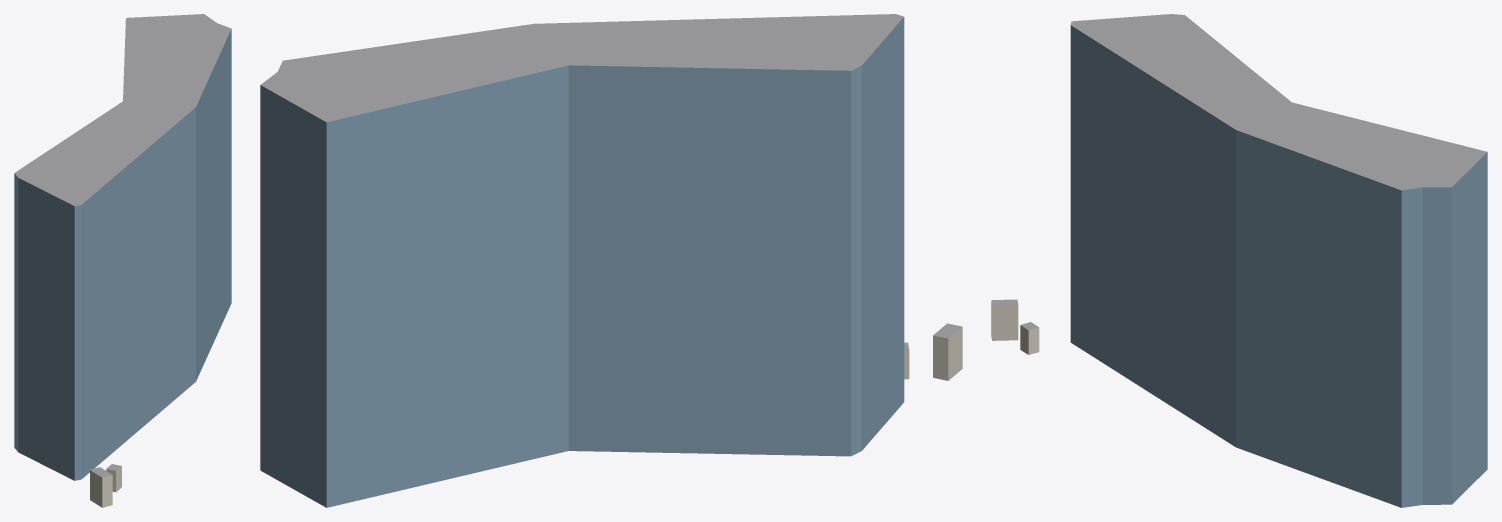
The model's file is building_4_5.glb.
3 renders of one model, left to right at view 1: azimuth 30°, elevation 25°; view 2: azimuth 150°, elevation 25°; view 3: azimuth 270°, elevation 25°, orthographic. The views are drawn at different scales.
Visible parts, largest first — view 1: glass_blue, roof, concrete_warm; view 2: glass_blue, roof, concrete_warm; view 3: glass_blue, roof, concrete_warm.
Part boxes in pixels (left/top/right/bottom): glass_blue: left=14, top=29, right=231, bottom=480; roof: left=14, top=14, right=231, bottom=477; concrete_warm: left=90, top=466, right=121, bottom=507; glass_blue: left=260, top=17, right=904, bottom=507; roof: left=261, top=14, right=961, bottom=349; concrete_warm: left=904, top=327, right=962, bottom=380; glass_blue: left=1070, top=25, right=1487, bottom=507; roof: left=991, top=14, right=1487, bottom=330; concrete_warm: left=991, top=302, right=1039, bottom=354.
Size of the model in its own units: 162 by 136 by 193.
